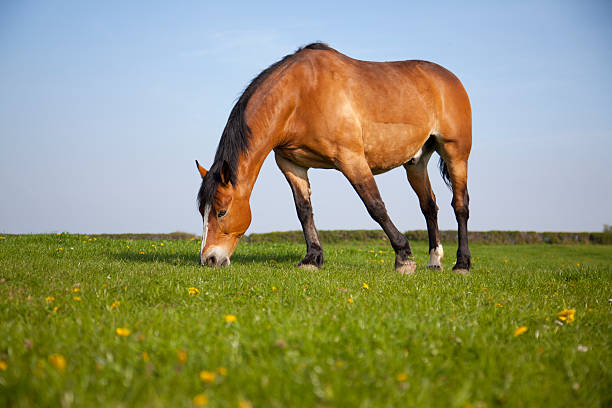Horse: (160, 10, 540, 291)
